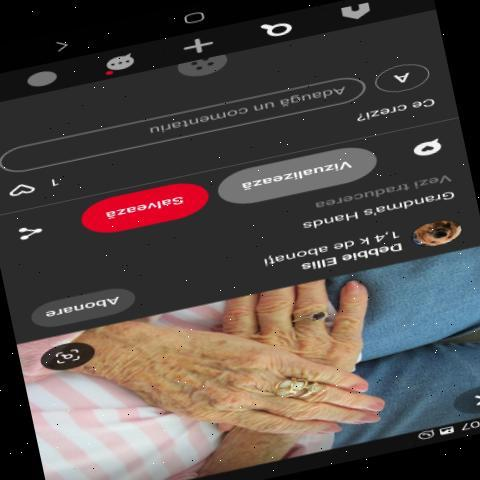Hands: (73, 328, 391, 441), (198, 271, 380, 376)
